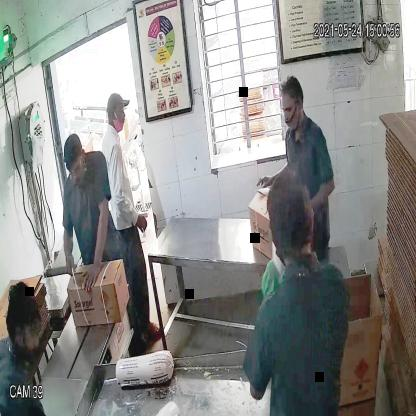goggles: (65, 160, 84, 180), (280, 102, 300, 121)
